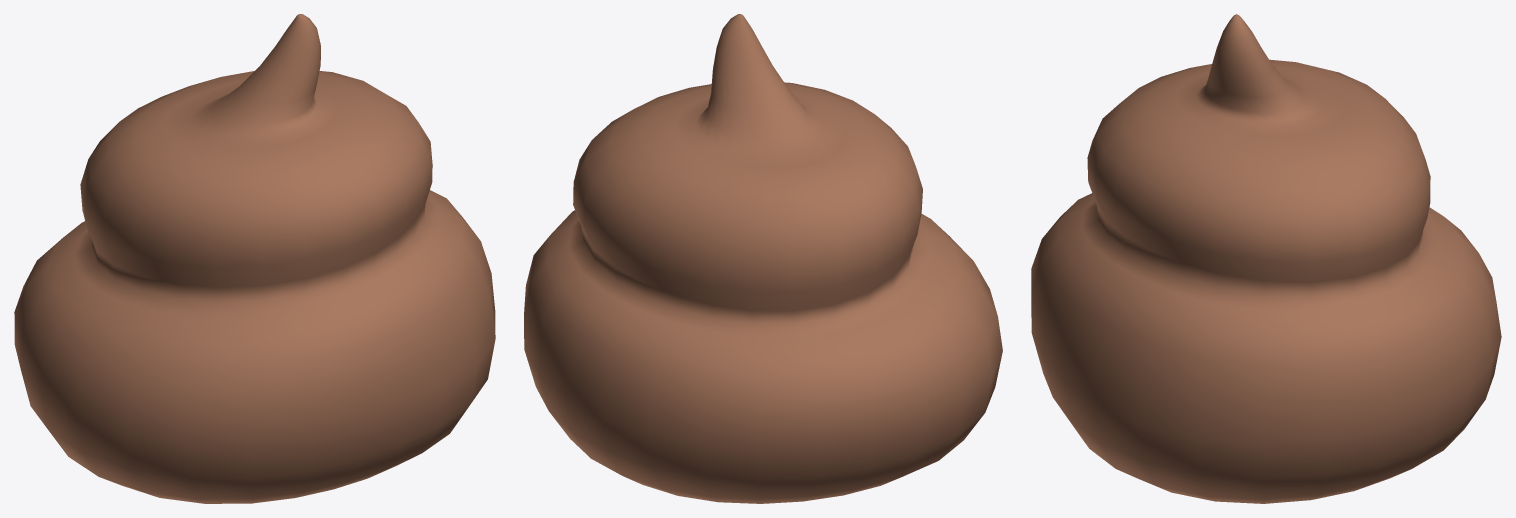
The model's file is DogPoop.obj.
The picture shows the model from 3 angles, left to right: view 1: azimuth 30°, elevation 25°; view 2: azimuth 150°, elevation 25°; view 3: azimuth 270°, elevation 25°; orthographic projection. The views are drawn at different scales.
Parts seen in each view (by area): view 1: DogPoop; view 2: DogPoop; view 3: DogPoop.
Boxes of the visible parts, x1=… form: DogPoop: x1=14, y1=14, x2=495, y2=503; DogPoop: x1=524, y1=14, x2=1002, y2=503; DogPoop: x1=1031, y1=14, x2=1501, y2=503.
Bounding box in the file's own units: 0.2708 × 0.2551 × 0.2494.
